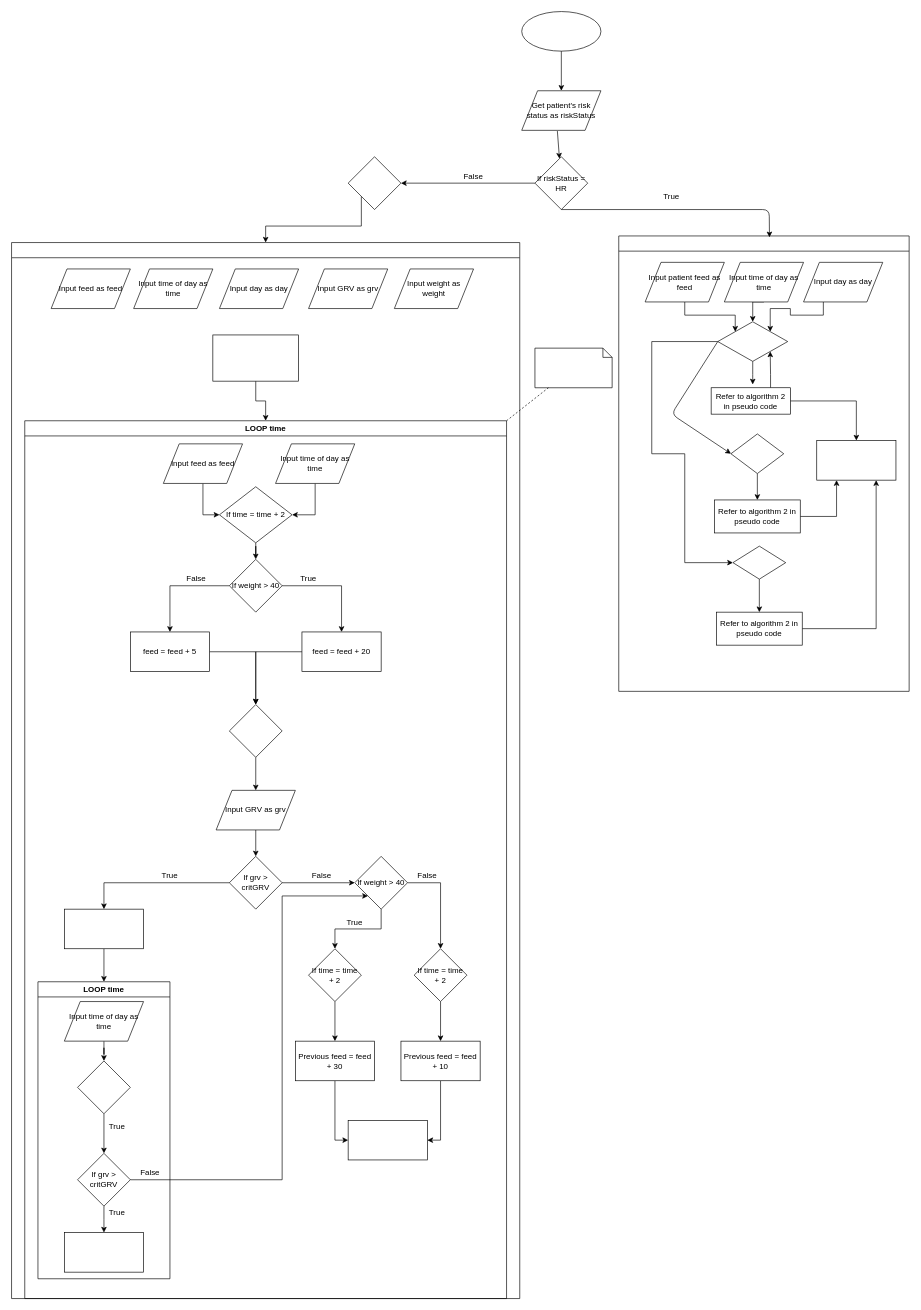
Some shapes in this 921 by 1310 pixel diagram are drawn without their labels. Each missing label, with the box of its shape:
Calculate critical GRV save as critGRV UPDATE IN PSEUDOCODE: (212, 334, 299, 381)
Else if day = 2: (730, 433, 784, 474)
Else if day = 3: (732, 545, 786, 579)
Else if riskStatus = LR: (347, 156, 401, 210)
Function hrCheck: (618, 235, 909, 691)
Function lrCheck: (11, 242, 520, 1299)
If day = 1: (717, 321, 788, 361)
If time = + 4 hours: (229, 704, 282, 757)
If time = +2 hours: (77, 1060, 130, 1114)
Print patient report = "None": (347, 1120, 427, 1160)
Print patient report = "refer to dietician": (64, 1232, 144, 1272)
Print patient report = "Stop feeding": (64, 908, 144, 949)
Produce report for patient.: (816, 440, 896, 480)
START: (521, 11, 601, 51)
We are looking at the next row for each iteration.: (534, 347, 612, 388)
